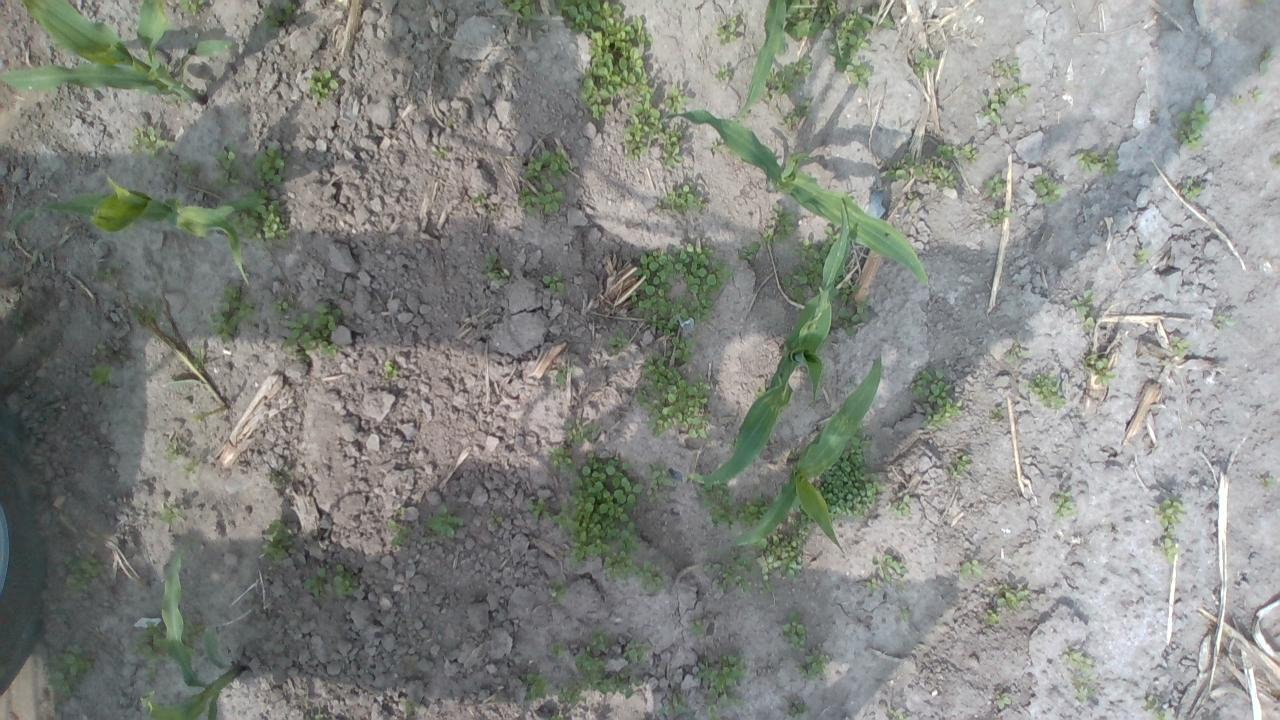Maize: (643, 106, 928, 288), (690, 198, 850, 484), (731, 356, 882, 554), (10, 176, 269, 283), (0, 0, 235, 107), (142, 549, 252, 720), (738, 0, 786, 124)
Weeds: (552, 0, 654, 124), (552, 456, 644, 570), (630, 241, 736, 337), (634, 337, 716, 440), (622, 84, 692, 170), (815, 434, 883, 520), (575, 631, 649, 699), (779, 226, 839, 306), (831, 6, 894, 69), (220, 187, 288, 243), (279, 300, 342, 360), (519, 145, 570, 216), (908, 368, 963, 430), (880, 150, 958, 190), (208, 283, 254, 347), (701, 544, 756, 594), (602, 552, 666, 594), (696, 655, 746, 705), (828, 280, 872, 336), (760, 57, 814, 102), (782, 0, 839, 42), (46, 646, 91, 696), (759, 534, 804, 582), (304, 564, 354, 602), (699, 481, 738, 529), (1021, 371, 1066, 410), (1176, 100, 1210, 149), (128, 127, 175, 161), (212, 143, 245, 191), (423, 504, 464, 541), (864, 556, 906, 592), (254, 141, 286, 187), (258, 518, 290, 564), (659, 182, 705, 214), (1072, 148, 1118, 178), (134, 624, 168, 664), (306, 68, 342, 104), (260, 0, 300, 32), (762, 206, 794, 244), (644, 462, 674, 502), (65, 559, 100, 593), (1070, 288, 1096, 332), (1033, 172, 1066, 206), (990, 582, 1030, 610), (498, 0, 540, 26), (1082, 354, 1116, 386), (738, 494, 770, 528), (1152, 498, 1188, 528), (562, 418, 598, 446), (522, 671, 554, 701), (944, 450, 976, 480), (783, 610, 807, 649), (978, 92, 1006, 124), (482, 254, 511, 284), (911, 50, 940, 80), (798, 653, 829, 681), (1062, 647, 1095, 673), (782, 97, 811, 126), (934, 142, 976, 162), (548, 445, 578, 472), (846, 58, 871, 90), (558, 680, 586, 708), (385, 518, 410, 548), (1054, 489, 1078, 520), (1158, 528, 1178, 564), (1142, 696, 1170, 720), (713, 15, 737, 43), (88, 364, 116, 386), (990, 57, 1019, 78), (526, 496, 550, 521), (548, 577, 572, 602), (608, 326, 632, 351), (886, 494, 912, 516), (175, 0, 210, 16), (179, 619, 197, 650), (1006, 83, 1030, 105), (1075, 678, 1099, 700), (1169, 334, 1190, 358), (984, 174, 1009, 194), (202, 626, 218, 657), (158, 502, 180, 524), (958, 558, 984, 576), (542, 270, 564, 290), (142, 302, 162, 324), (739, 242, 761, 262), (1258, 50, 1276, 74), (1181, 180, 1202, 200), (178, 460, 201, 478), (179, 158, 199, 178), (787, 702, 809, 720), (989, 207, 1009, 226), (687, 620, 705, 640), (162, 440, 178, 462), (556, 366, 574, 384), (139, 688, 157, 706), (981, 608, 1000, 625), (758, 576, 775, 594), (712, 66, 732, 81), (192, 344, 204, 369), (430, 144, 448, 160), (1135, 246, 1151, 264), (384, 360, 399, 379), (1216, 313, 1235, 328), (704, 704, 721, 720), (994, 694, 1010, 711), (400, 698, 416, 714), (709, 140, 726, 154), (1007, 350, 1024, 364), (551, 642, 566, 657), (896, 606, 912, 620), (990, 408, 1004, 423), (470, 192, 486, 205), (1248, 87, 1264, 100), (95, 338, 107, 355), (270, 300, 290, 310), (1232, 94, 1246, 108), (1260, 478, 1276, 490), (906, 191, 916, 209), (488, 510, 498, 528), (1271, 154, 1280, 172), (550, 712, 565, 720), (310, 714, 324, 720), (894, 712, 904, 720), (1254, 0, 1266, 5)
